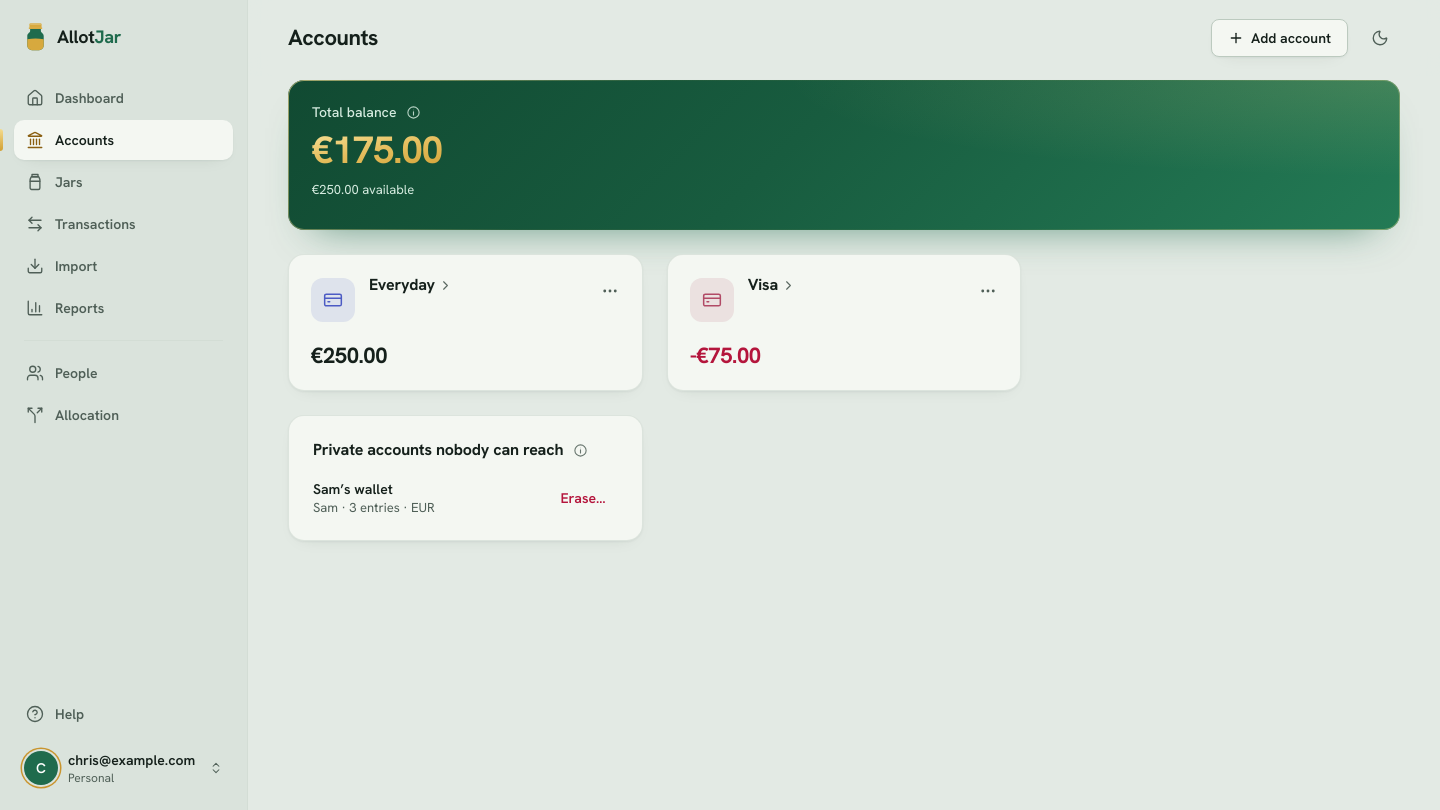
Test: AccountsPage › lets the owner erase a private account nobody can reach, after typing its name
This screenshot has width=1440, height=810.
Expected: the heading "Private accounts nobody can reach" is shown, [313,438,563,462]
Expected: the text "Sam’s wallet" is shown, [313,480,393,498]
Click the button with aria-label "Erase Sam’s wallet" at [583, 498], box [548,478,618,518]
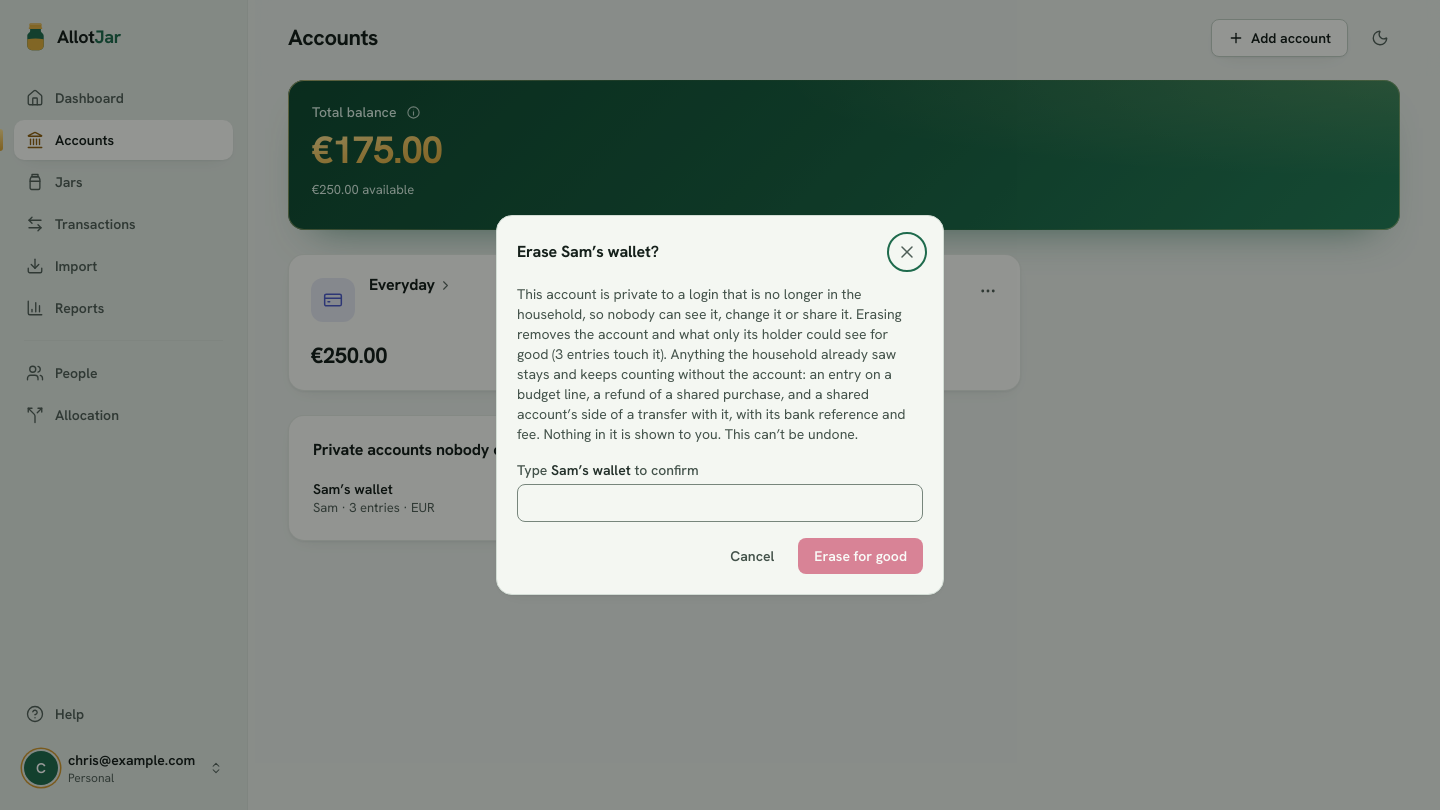
Expected: the button "Erase for good" is disabled, [798,538,923,574]
Type "Sam’s wal" into the field labelled "Type Sam’s wallet to confirm" at [720, 503], box [517,484,923,522]
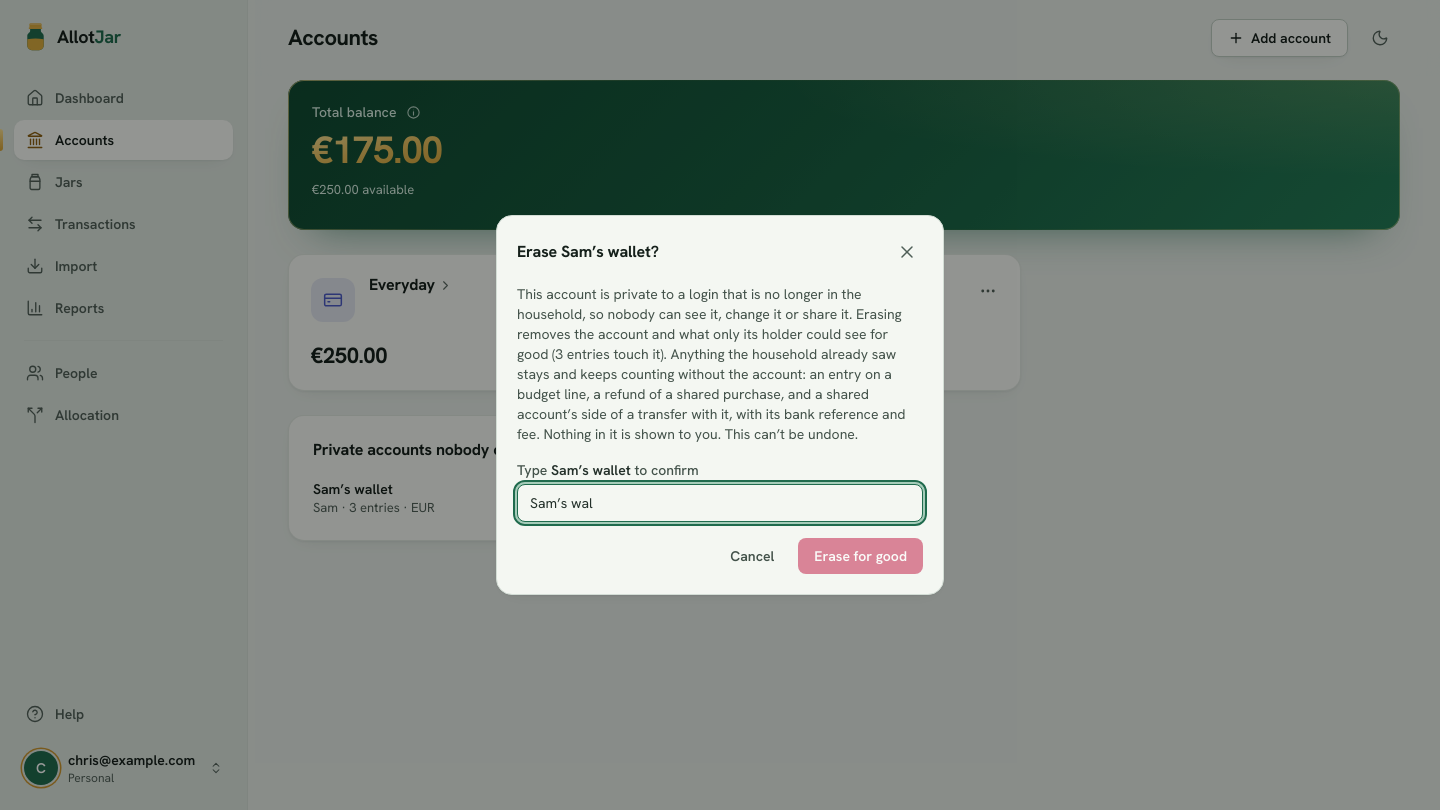
Expected: the button "Erase for good" is disabled, [798,538,923,574]
Type "let" into the field labelled "Type Sam’s wallet to confirm" at [720, 503], box [517,484,923,522]
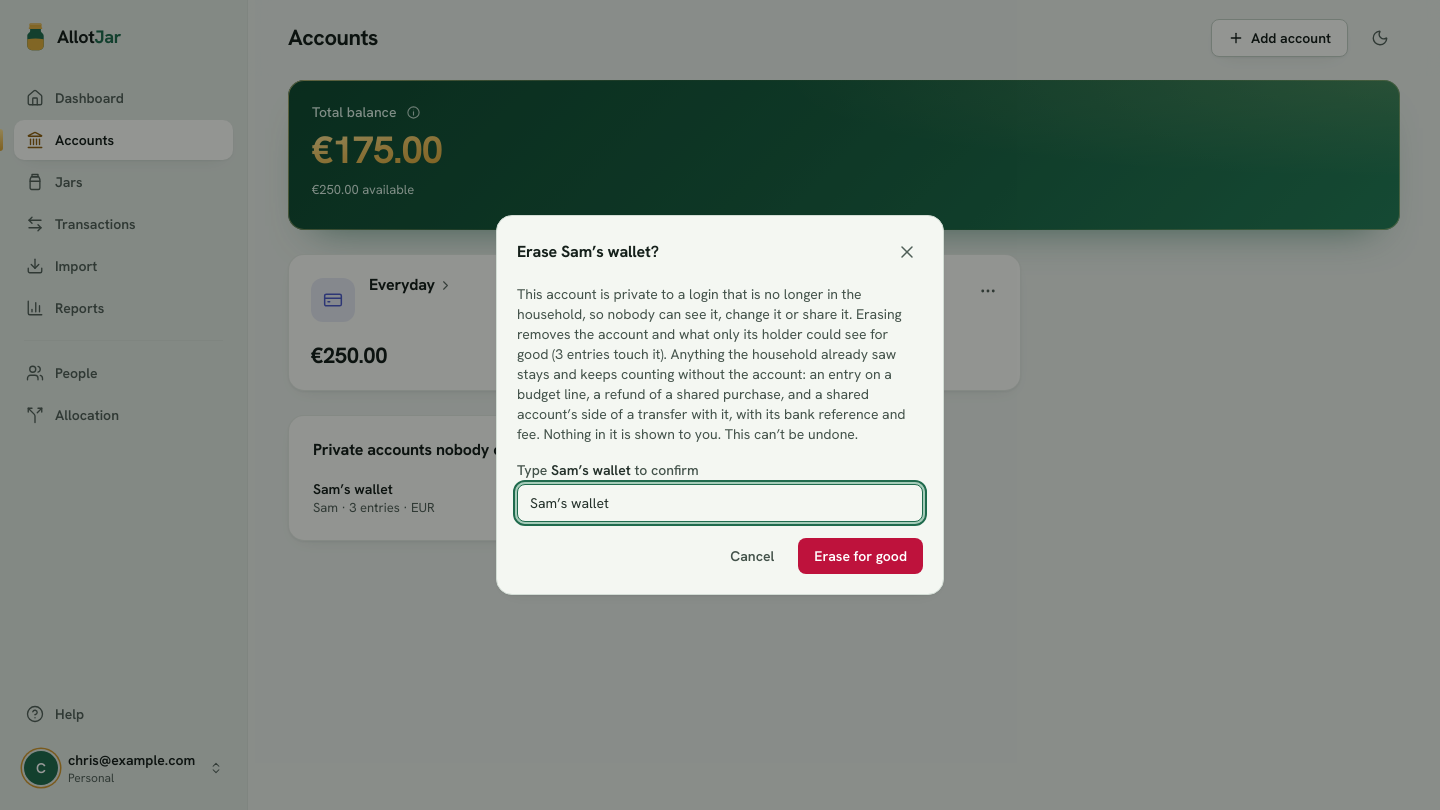
Expected: the button "Erase for good" is enabled
Click the button "Erase for good" at [861, 556], box [798,538,923,574]
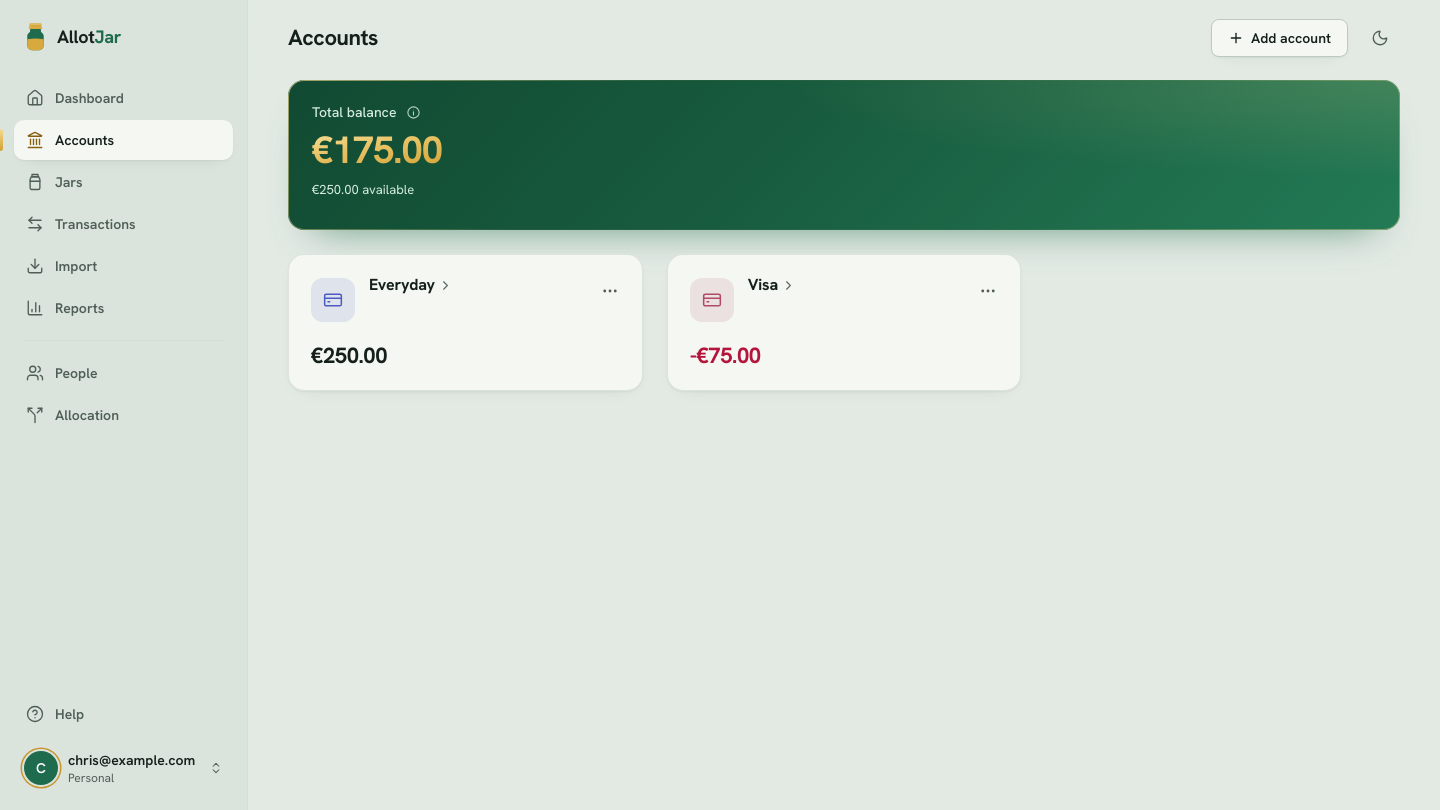
Expected: the element with test id "unreachable-accounts" is gone
Expected: the dialog is gone
